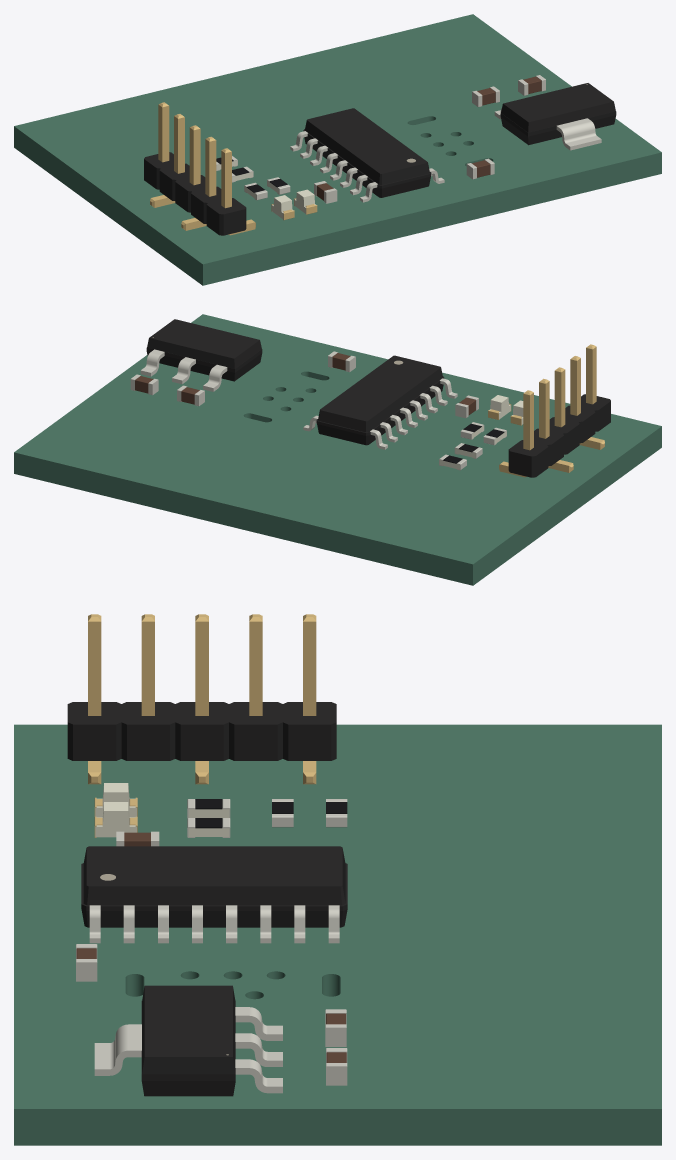
Rendered from ESP_Programmer.glb.
3 renders of one model, top to bottom at view 1: azimuth 30°, elevation 25°; view 2: azimuth 150°, elevation 25°; view 3: azimuth 270°, elevation 25°, orthographic. The views are drawn at different scales.
Visible parts, largest first — view 1: =>[0:1:1:8], U1, J1, U3, C1, C13, D2, C14, D1; view 2: =>[0:1:1:8], U1, J1, U3, C14, D2, C13, C1; view 3: =>[0:1:1:8], U1, J1, U3, D2, D1, R2, R1, C14, C13, C1.
Boxes of the visible parts, x1,y1,x2,y2 form: =>[0:1:1:8]: (14,14,661,285); U1: (290,108,444,202); J1: (144,102,255,235); U3: (494,83,616,150); C1: (466,158,494,179); C13: (472,86,499,107); D2: (294,189,317,214); C14: (518,75,545,95); D1: (271,195,294,220); =>[0:1:1:8]: (14,314,661,585); U1: (303,355,457,449); J1: (499,344,610,477); U3: (140,319,262,391); C14: (130,374,158,395); D2: (488,395,511,419); C13: (177,385,204,406); C1: (328,351,355,372); =>[0:1:1:8]: (14,724,661,1145); U1: (81,846,347,943); J1: (67,614,336,784); U3: (94,985,282,1096); D2: (94,802,137,837); D1: (94,783,137,817); R2: (187,818,230,837); R1: (187,799,230,818); C14: (326,1048,347,1085); C13: (325,1009,346,1046); C1: (76,944,97,981).
Size of the model in its own units: 0.0338 by 0.0076 by 0.0241.
